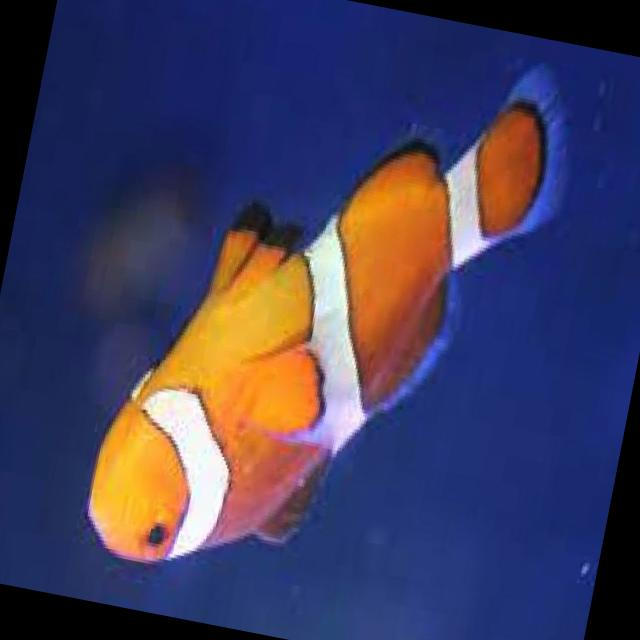ClownFish: (26, 0, 601, 640)
